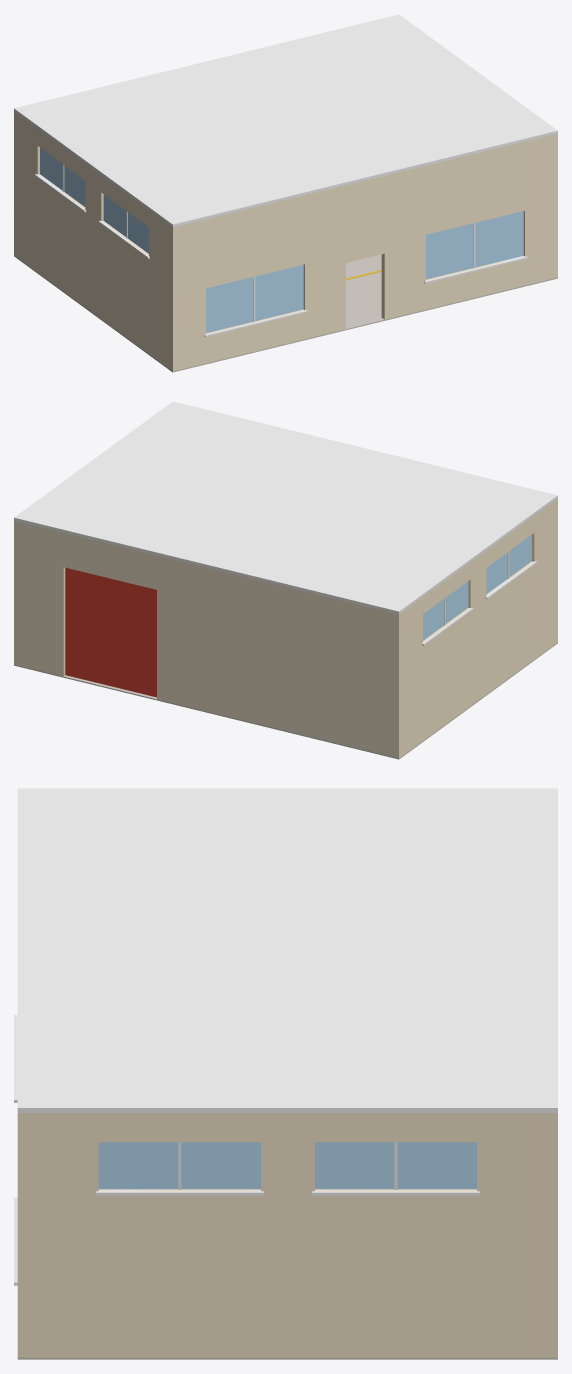
Rendered from shop-interior.glb.
3 views of the same model, one above another, from view 1: azimuth 30°, elevation 25°; view 2: azimuth 150°, elevation 25°; view 3: azimuth 270°, elevation 25° (orthographic). The views are drawn at different scales.
Parts seen in each view (by area): view 1: ceiling, wall_front, walls, floor; view 2: walls, ceiling, floor; view 3: ceiling, walls, wall_front, floor.
Boxes of the visible parts, bbox=[...] form: ceiling: bbox=[14, 14, 557, 227]; wall_front: bbox=[169, 135, 552, 371]; walls: bbox=[14, 111, 557, 371]; floor: bbox=[14, 254, 557, 372]; walls: bbox=[14, 498, 557, 758]; ceiling: bbox=[14, 401, 557, 614]; floor: bbox=[14, 642, 557, 759]; ceiling: bbox=[17, 788, 557, 1112]; walls: bbox=[27, 1113, 557, 1357]; wall_front: bbox=[14, 1015, 28, 1357]; floor: bbox=[17, 1357, 557, 1359].
Size of the model in its own units: 14.14 by 5.14 by 10.07.
